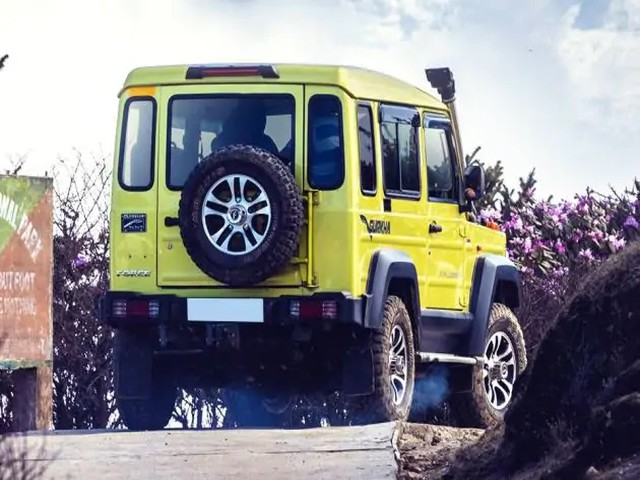Vehicle: (107, 51, 523, 431)
